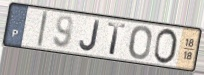9: (52, 15, 75, 50)
I: (36, 10, 49, 49)
J: (79, 19, 102, 53)
O: (152, 27, 179, 66), (128, 24, 153, 61)
T: (107, 21, 128, 56)
